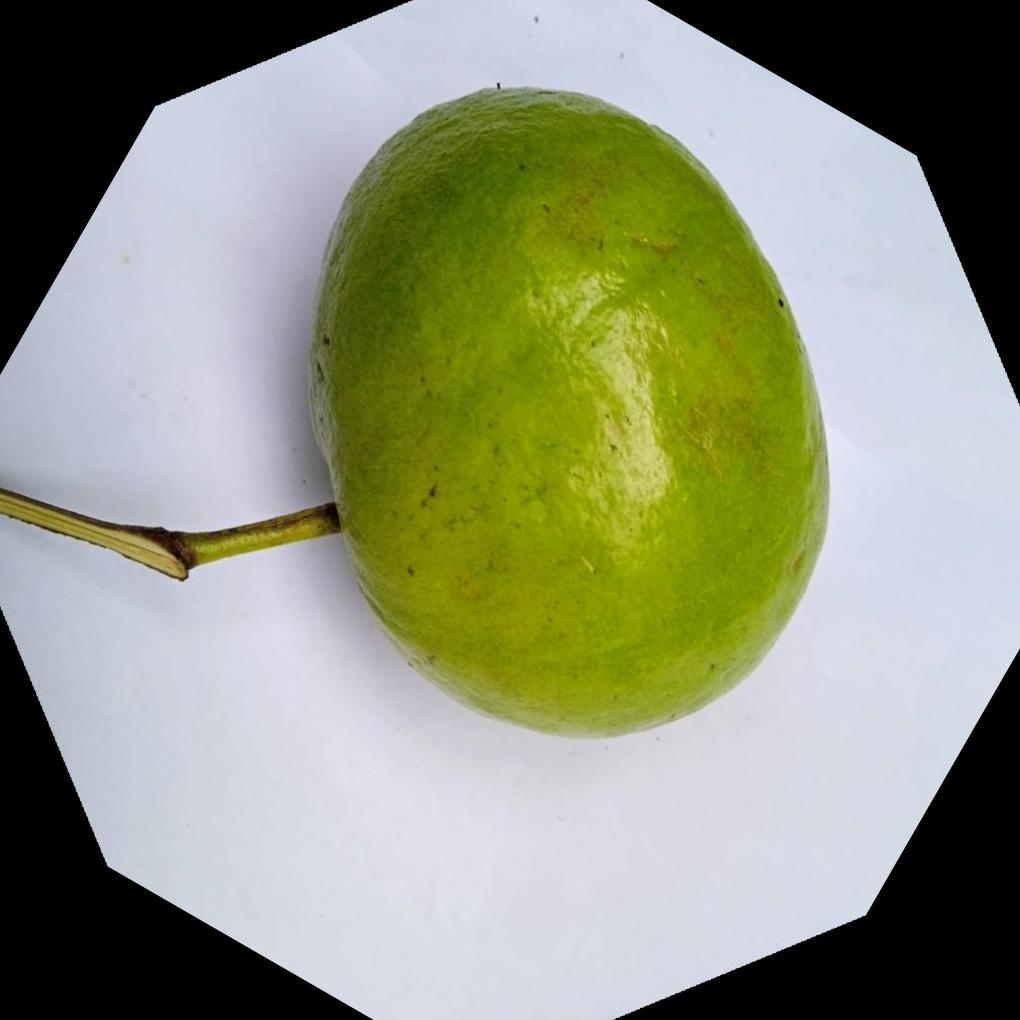FreshGuava: (304, 86, 830, 743)
